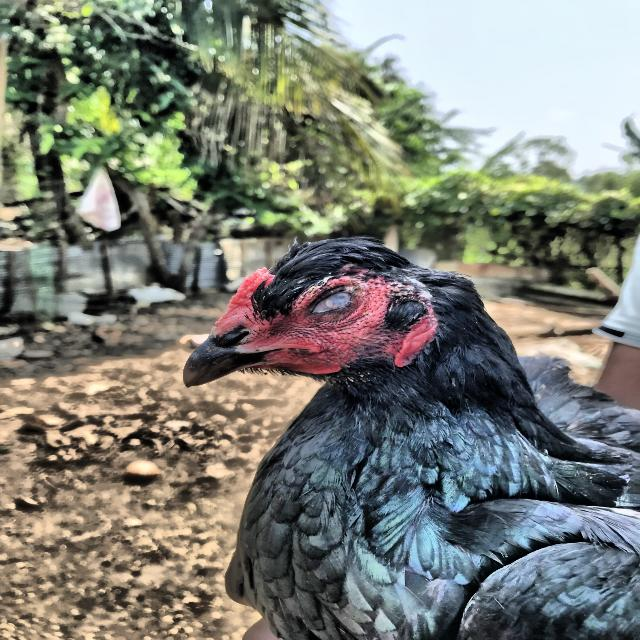Coryza: (100, 191, 640, 571)
